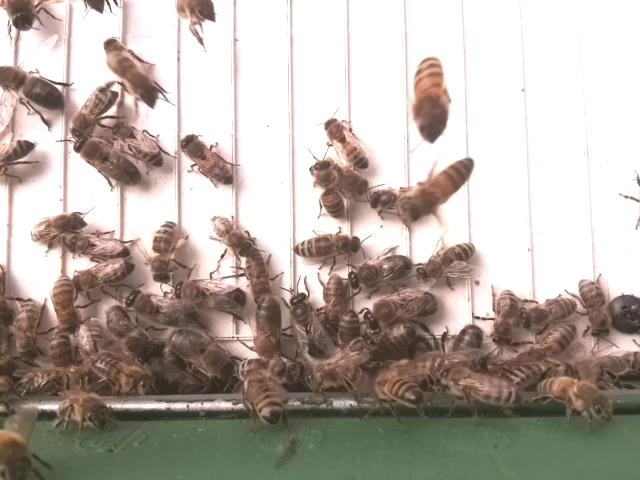Drone: (72, 132, 145, 190), (167, 325, 237, 383), (0, 62, 69, 116), (285, 288, 332, 363), (125, 287, 199, 332), (362, 289, 440, 331), (174, 277, 248, 319), (346, 251, 414, 293)
Worker: (402, 157, 474, 220), (411, 55, 449, 143), (178, 131, 237, 187), (321, 115, 372, 170), (413, 241, 476, 283), (68, 86, 122, 134), (310, 156, 346, 222), (575, 276, 612, 340), (291, 232, 362, 263), (72, 260, 139, 292), (150, 218, 182, 283), (520, 295, 581, 329), (27, 211, 83, 246), (210, 211, 253, 256), (244, 243, 274, 307), (14, 296, 41, 365), (62, 233, 133, 259), (494, 286, 521, 347), (50, 274, 79, 330)
